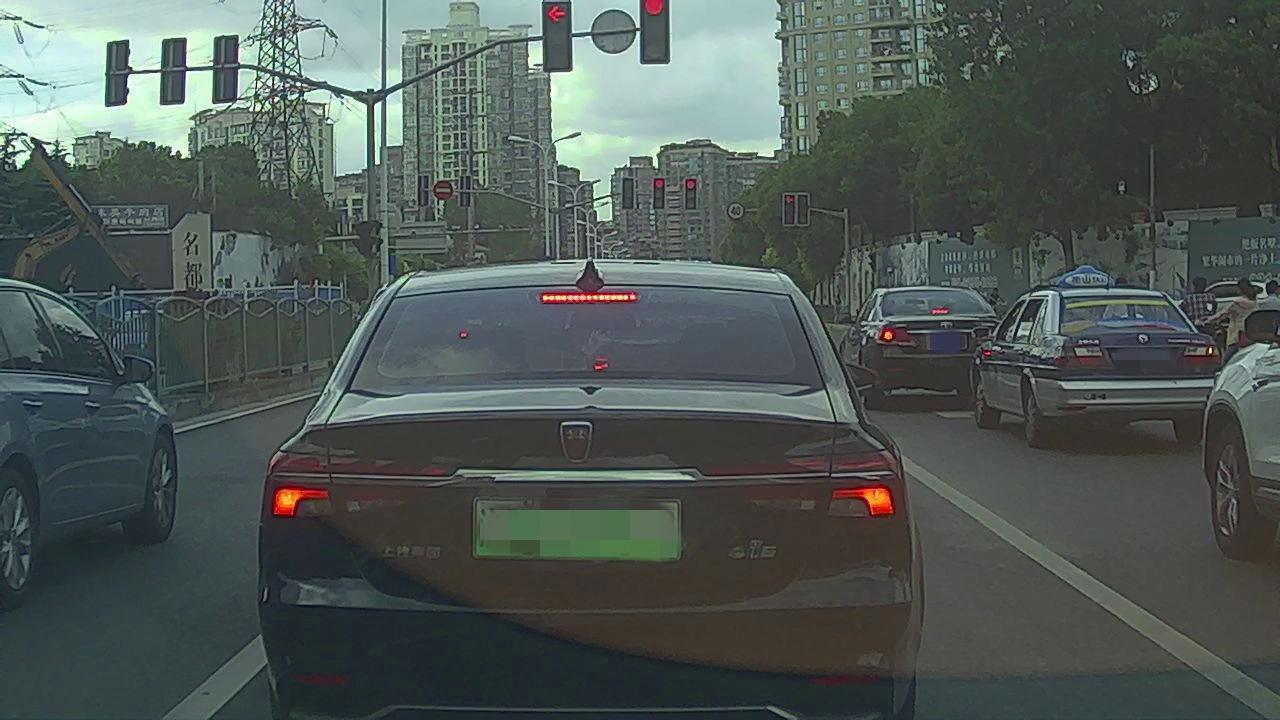traffic_light: (640, 1, 671, 65), (544, 2, 569, 72), (799, 197, 810, 225), (623, 178, 632, 210), (655, 178, 664, 209), (686, 179, 695, 208), (785, 193, 793, 223)
